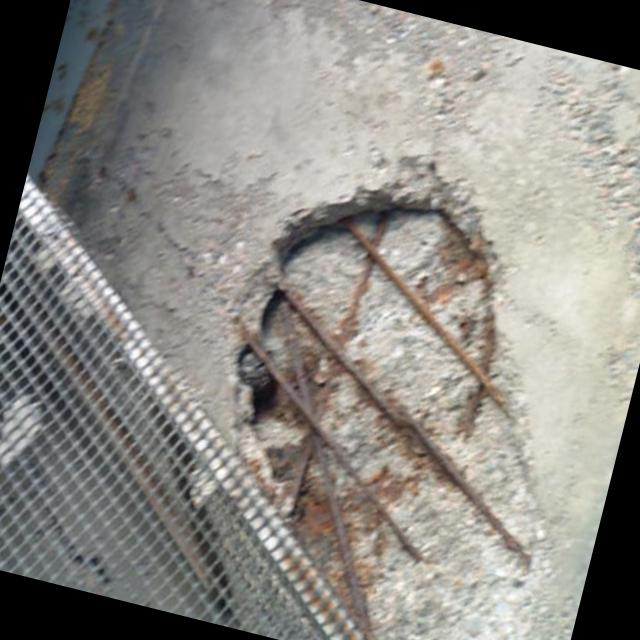spalling: (232, 186, 562, 640)
